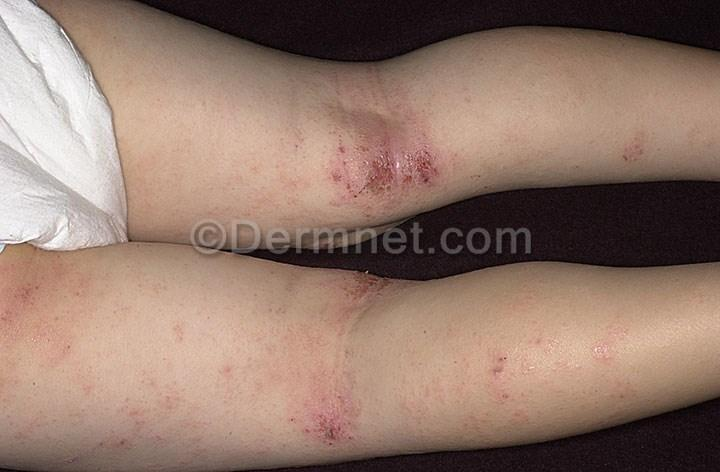Eritema 2: (274, 71, 442, 196)
eritema 1: (293, 379, 374, 462), (1, 247, 60, 351), (333, 256, 430, 311)
excoriacion 2: (336, 124, 457, 203), (299, 388, 363, 449)
exudacion 1: (315, 419, 345, 444)
exudacion 2: (344, 270, 396, 302)
exudacion 3: (355, 152, 442, 195)
